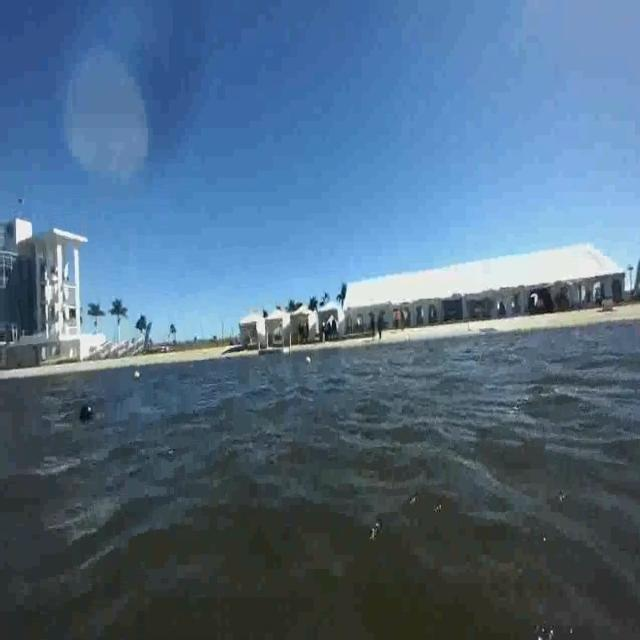black-buoy: (78, 402, 94, 422)
